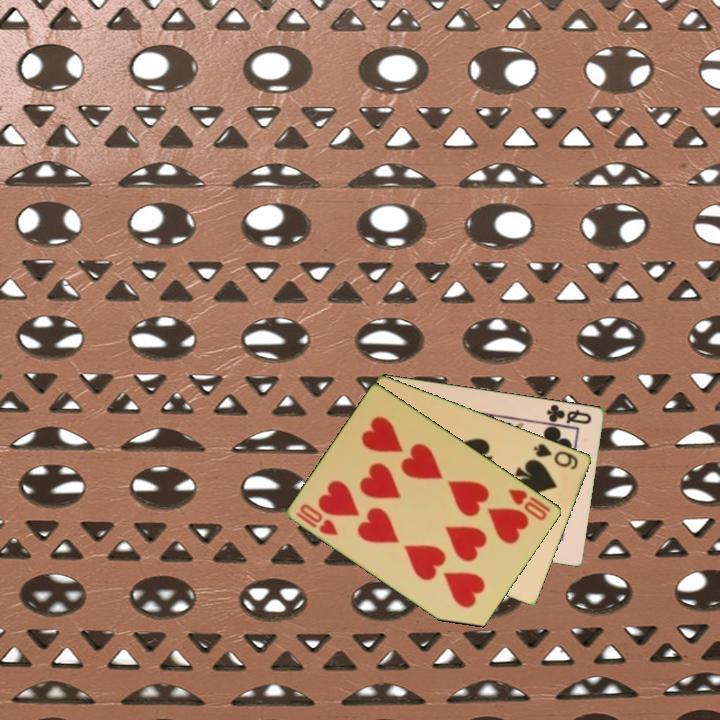10h: (505, 485, 554, 524), (293, 500, 341, 538)
6s: (530, 440, 582, 472)
Qc: (540, 400, 595, 429)
